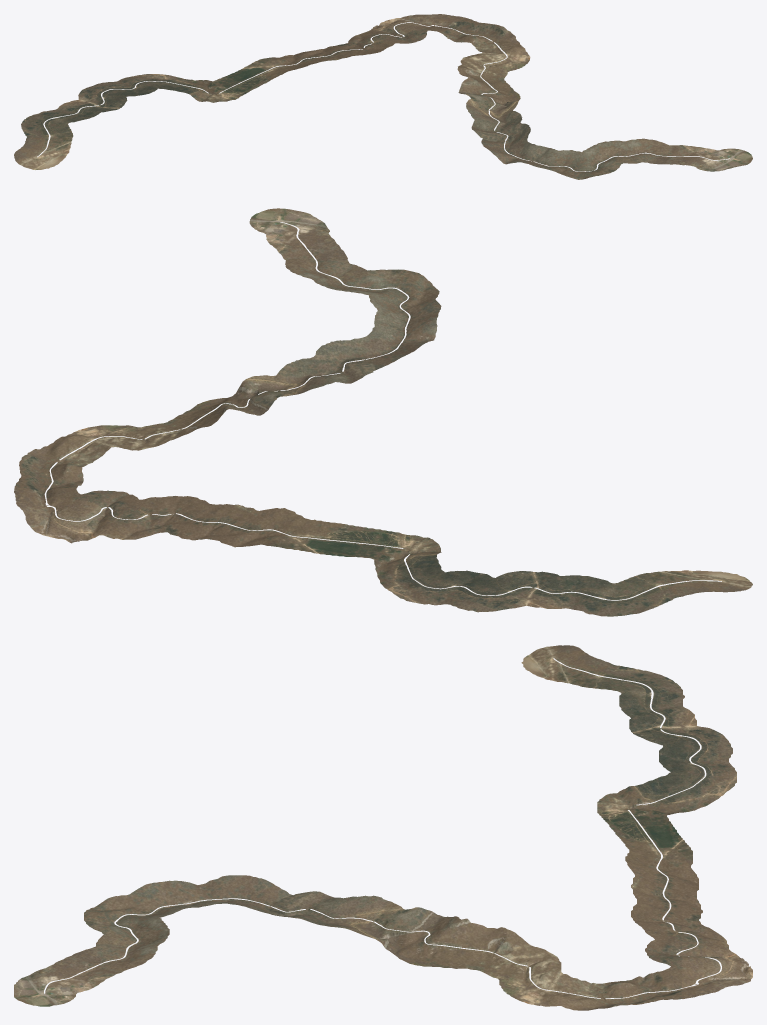
The model's file is terrain_sol.glb.
The picture shows the model from 3 angles, top to bottom: view 1: azimuth 30°, elevation 25°; view 2: azimuth 150°, elevation 25°; view 3: azimuth 270°, elevation 25°; orthographic projection. The views are drawn at different scales.
Parts seen in each view (by area): view 1: dalle_916500_6241000, dalle_916500_6243000, dalle_914000_6243000, dalle_916000_6241500, dalle_916500_6242500, dalle_915000_6243000, dalle_916000_6242000, dalle_916000_6241000, dalle_914500_6243500, dalle_915500_6243000, dalle_916500_6243500, dalle_916000_6243000 (+8 smaller); view 2: dalle_914000_6243000, dalle_916000_6241500, dalle_916500_6243000, dalle_915000_6243000, dalle_915500_6243000, dalle_916500_6241000, dalle_916000_6241000, dalle_916000_6242000, dalle_914500_6243500, dalle_916500_6243500, dalle_916500_6242500, dalle_916000_6243000 (+6 smaller); view 3: dalle_916500_6242500, dalle_916000_6242000, dalle_914000_6243000, dalle_916500_6243000, dalle_915000_6243000, dalle_916500_6241000, dalle_916000_6241500, dalle_916000_6241000, dalle_915500_6243000, dalle_914500_6243500, dalle_916000_6243000, dalle_916500_6243500 (+10 smaller).
Part boxes in pixels (box(x1,y1,x2,y2)): dalle_916500_6241000: box(589, 138, 703, 170); dalle_916500_6243000: box(402, 18, 524, 56); dalle_914000_6243000: box(21, 101, 108, 150); dalle_916000_6241500: box(476, 121, 558, 164); dalle_916500_6242500: box(460, 47, 530, 93); dalle_915000_6243000: box(169, 68, 269, 102); dalle_916000_6242000: box(462, 90, 522, 132); dalle_916000_6241000: box(516, 148, 615, 179); dalle_914500_6243500: box(80, 74, 167, 101); dalle_915500_6243000: box(246, 53, 341, 80); dalle_916500_6243500: box(379, 14, 467, 36); dalle_916000_6243000: box(324, 36, 414, 58); dalle_914000_6243000: box(524, 571, 688, 616); dalle_916000_6241500: box(308, 310, 437, 374); dalle_916500_6243000: box(15, 436, 141, 509); dalle_915000_6243000: box(315, 524, 441, 574); dalle_915500_6243000: box(210, 504, 345, 551); dalle_916500_6241000: box(278, 233, 391, 292); dalle_916000_6241000: box(356, 269, 441, 325); dalle_916000_6242000: box(226, 358, 367, 411); dalle_914500_6243500: box(396, 574, 524, 612); dalle_916500_6243500: box(14, 486, 104, 543); dalle_916500_6242500: box(61, 405, 225, 449); dalle_916000_6243000: box(105, 491, 232, 532); dalle_916500_6242500: box(431, 936, 557, 1006); dalle_916000_6242000: box(307, 891, 432, 946); dalle_914000_6243000: box(557, 671, 682, 729); dalle_916500_6243000: box(557, 951, 682, 1008); dalle_915000_6243000: box(597, 783, 682, 841); dalle_916500_6241000: box(58, 922, 169, 979); dalle_916000_6241500: box(182, 875, 307, 920); dalle_916000_6241000: box(84, 880, 183, 930); dalle_915500_6243000: box(618, 836, 682, 900); dalle_914500_6243500: box(681, 729, 736, 788); dalle_916000_6243000: box(631, 890, 682, 956); dalle_916500_6243500: box(681, 956, 752, 998).
Bounding box in the file's own units: 3536 × 201 × 2960.
Materials: 26 (26 with a texture image).
